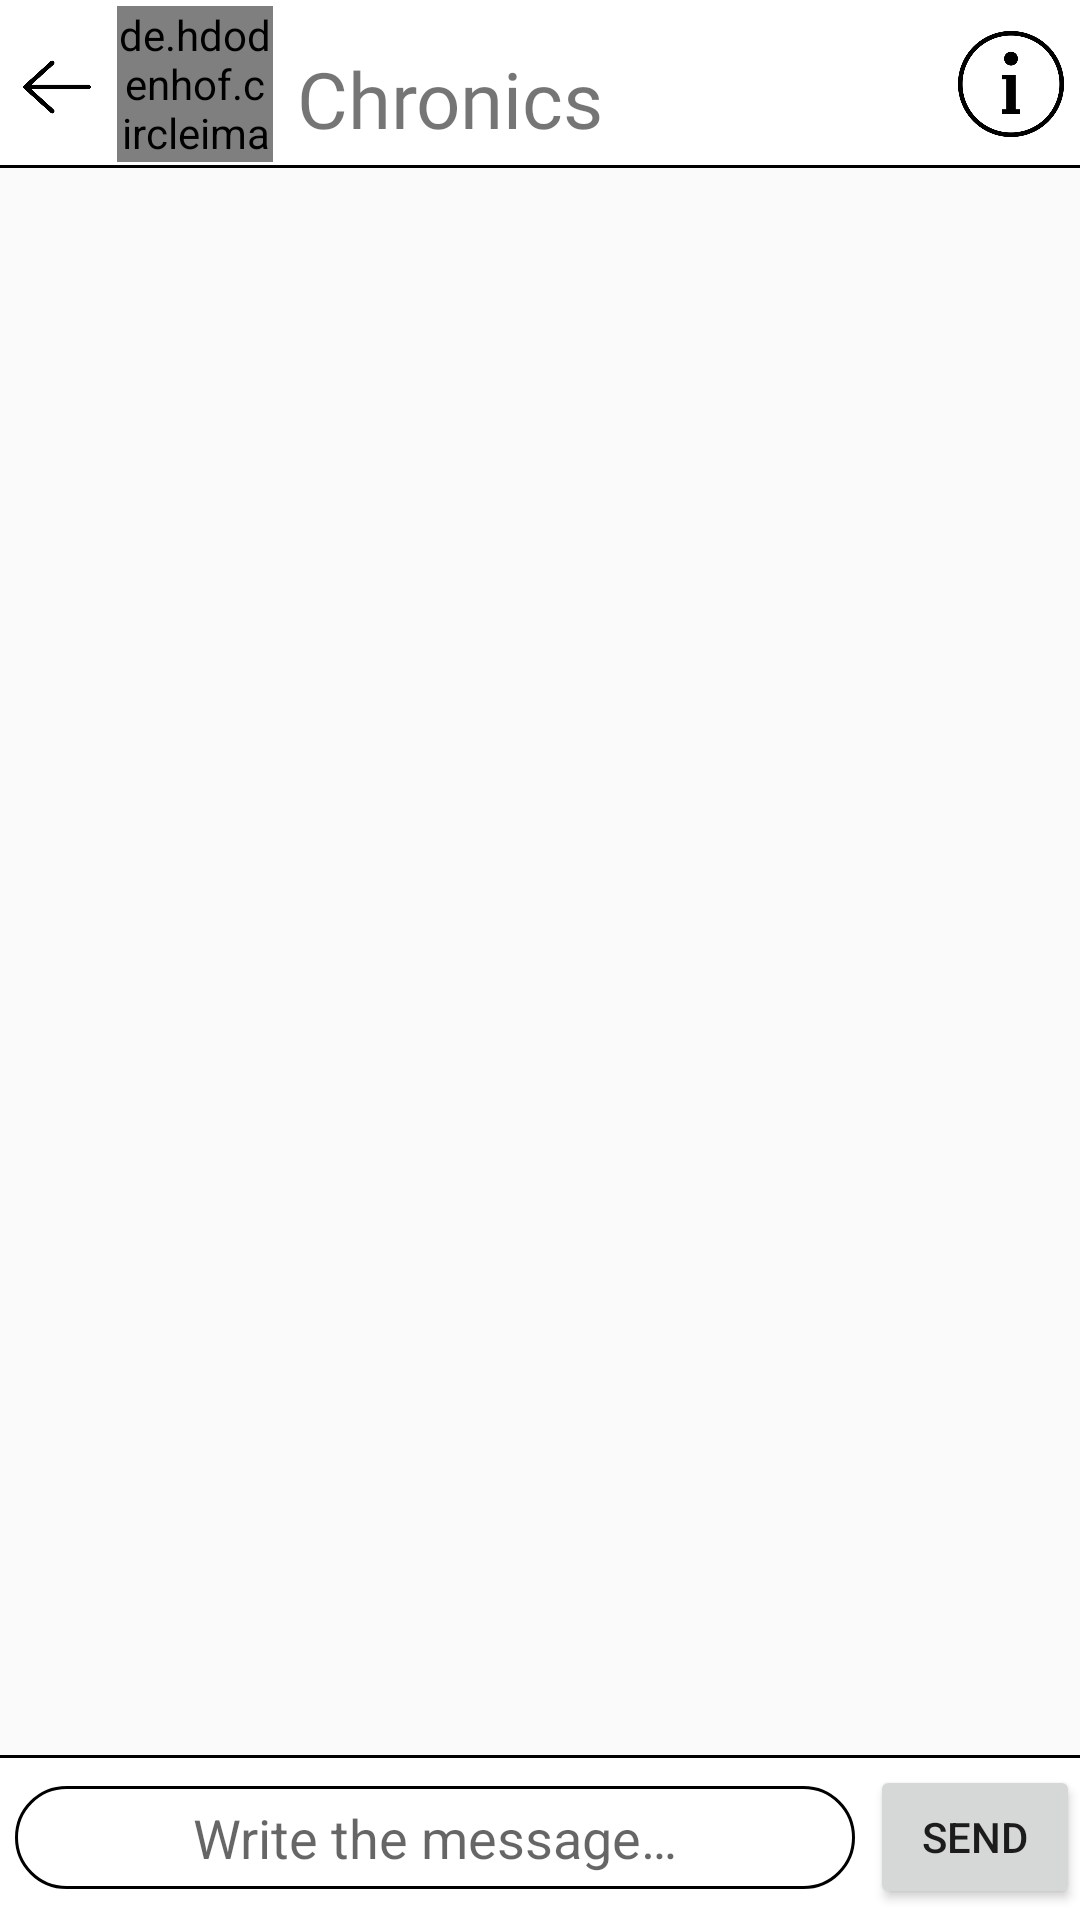

Screen size 1080x1920. Icon name, then its box in pixels as (x1, y1, x2, y2):
back arrow: (23, 60, 91, 114)
info: (958, 31, 1064, 137)
